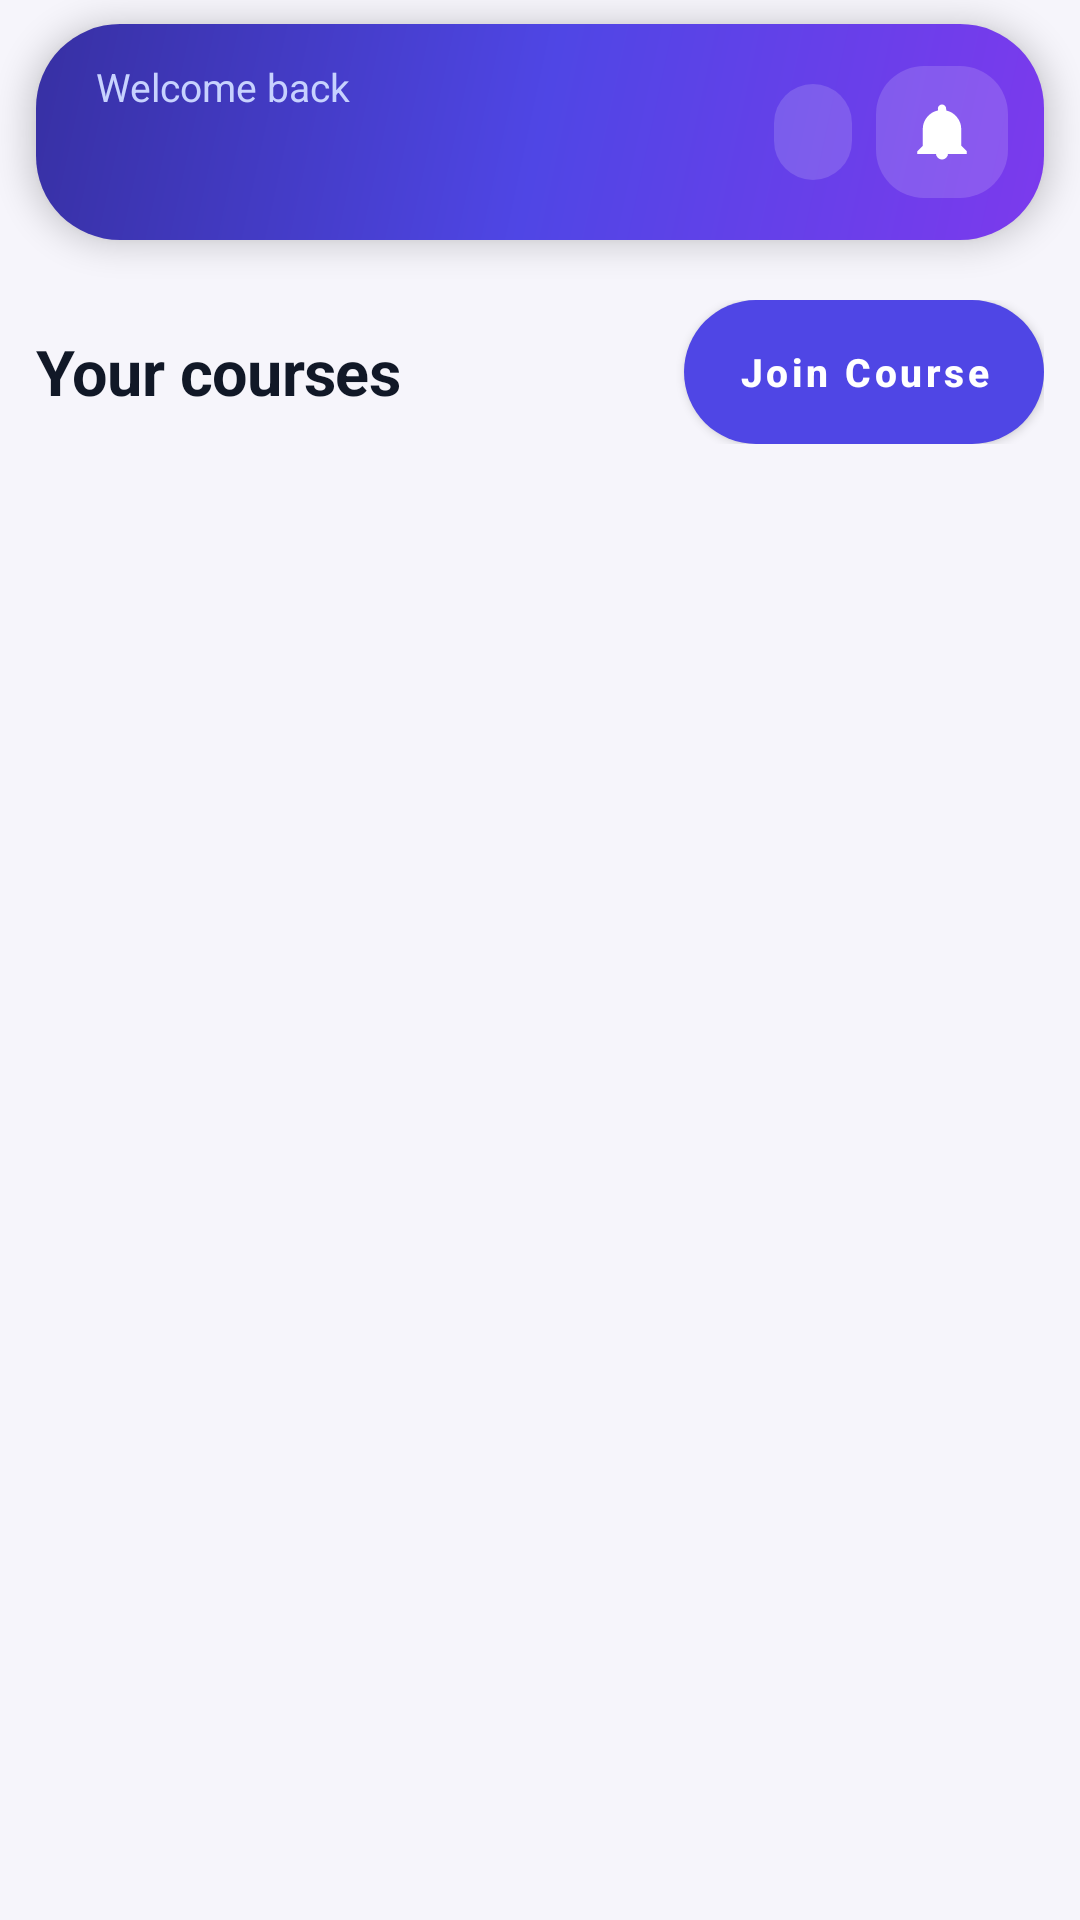

Icon bounding boxes for this 1080px×1920px phone screenshot, format bbox=(x1, y1, x2, y2):
Notifications: bbox=(876, 66, 1008, 198)
